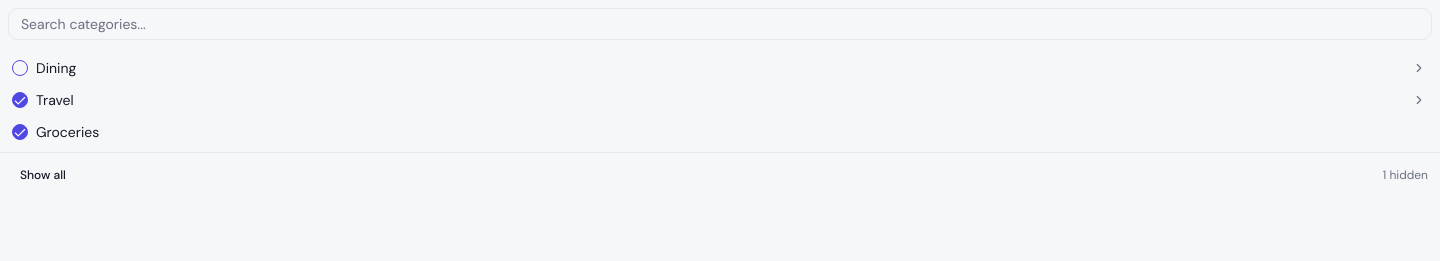
Scenario: CategoryFilterList › disables sub checkboxes while the parent is hidden
This screenshot has width=1440, height=261.
Click the button named "show sub-categories of dining" at (1419, 68), box [1410, 59, 1428, 77]
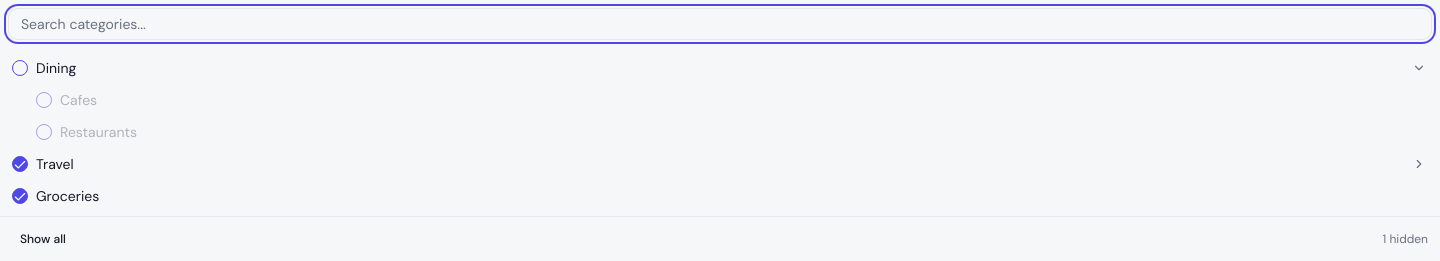
Check: the checkbox named "Cafes" next to "Cafes" is disabled, box [36, 92, 52, 108]
Check: the checkbox named "Cafes" next to "Cafes" is not checked, box [36, 92, 52, 108]
